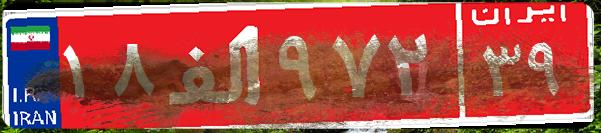1: (57, 26, 110, 107)
2: (385, 28, 445, 110)
3: (475, 38, 525, 113)
7: (330, 28, 385, 110)
8: (110, 28, 158, 105)
9: (273, 28, 330, 110), (525, 38, 570, 115)
الف: (158, 15, 273, 115)
